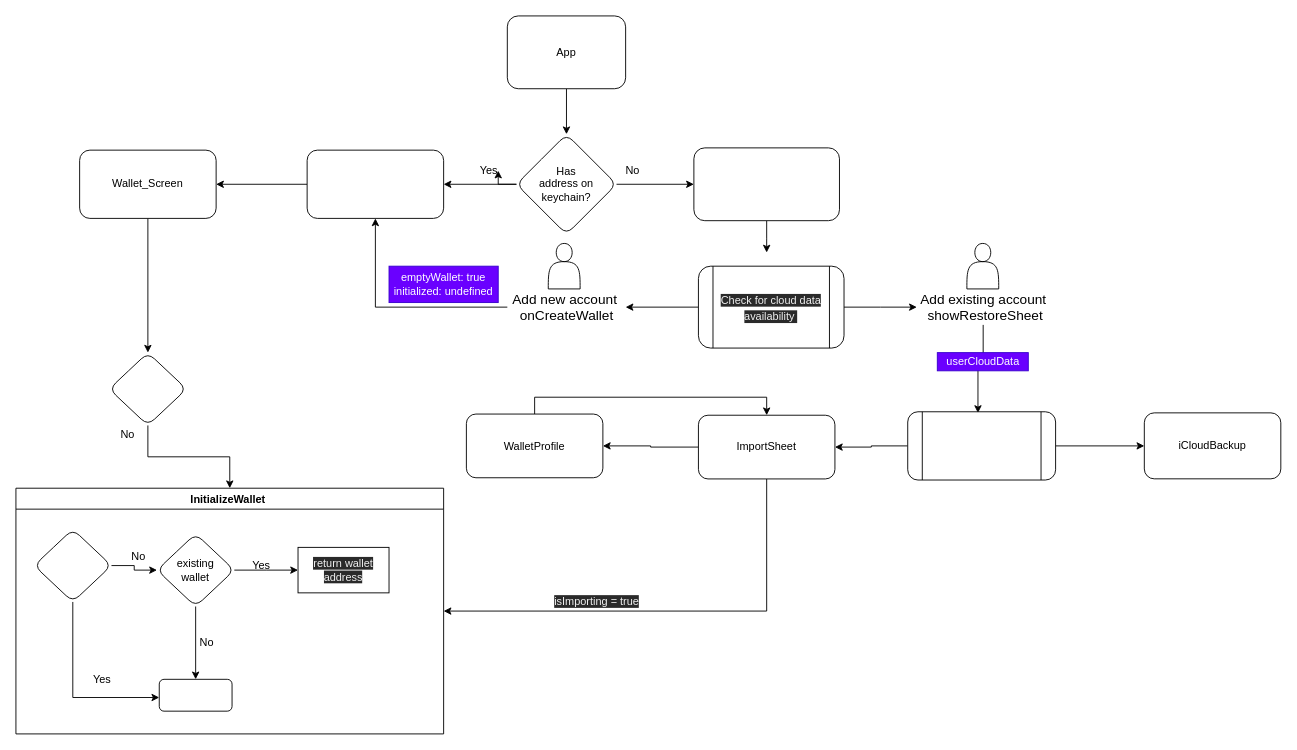
This 1297x750 diagram has some shape labels left out. Each missing label, with the centre of its shape:
"createWallet" belongs at [195,694].
"Importing" belongs at [72,565].
"Initialized" belongs at [147,388].
"Restore Sheet" belongs at [981,445].
"TAB_NAVIGATOR" belongs at [375,183].
"Welcome_Screen" belongs at [766,184].
